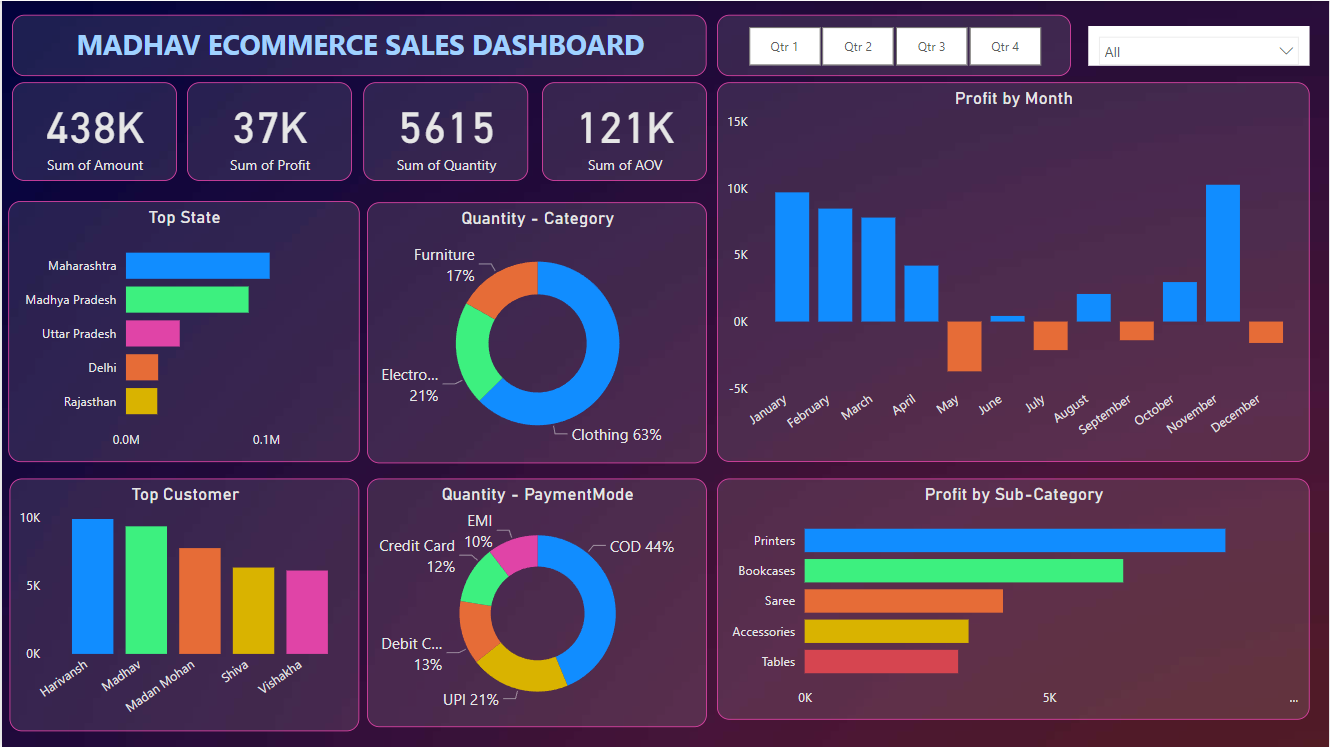

This screenshot's page, from the dashboard's own definition file:
{"tool":"powerbi","page":{"name":"Page 1","canvas":[1280,720],"ordinal":0},"visuals":[{"type":"textbox","box":[9.7,13.3,670.8,59.1],"z":0},{"type":"columnChart","title":" Profit by Month","fields":{"Category":["Orders.Order Date.Variation.Date Hierarchy.Month"],"Y":["Details.Profit"]},"box":[690.1,78.4,571.9,366.8],"z":1000},{"type":"barChart","title":" Profit by Sub-Category","fields":{"Category":["Details.Sub-Category"],"Y":["Details.Profit"]},"box":[690.1,460.9,571.9,232.8],"z":2000},{"type":"donutChart","title":"Quantity - Category","fields":{"Category":["Details.Category"],"Y":["Details.Quantity"]},"box":[352.3,194.2,328.2,252.1],"z":3000},{"type":"donutChart","title":" Quantity - PaymentMode","fields":{"Y":["Details.Quantity"],"Category":["Details.PaymentMode"]},"box":[352.3,460.9,328.2,240.1],"z":4000},{"type":"card","fields":{"Values":["Details.Amount"]},"box":[9.7,78.4,159.3,95.3],"z":5000},{"type":"card","fields":{"Values":["Details.Quantity"]},"box":[348.7,78.4,159.3,95.3],"z":6000},{"type":"card","fields":{"Values":["Details.AOV"]},"box":[521.2,78.4,159.3,95.3],"z":7000},{"type":"card","fields":{"Values":["Details.Profit"]},"box":[178.6,78.4,159.3,95.3],"z":8000},{"type":"barChart","title":"Top State","fields":{"Category":["Orders.State"],"Y":["Details.Amount"]},"box":[6,193,339,252.1],"z":9000},{"type":"columnChart","title":"Top Customer","fields":{"Category":["Orders.CustomerName"],"Y":["Details.Amount"]},"box":[7.2,460.9,337.8,243.7],"z":10000},{"type":"slicer","fields":{"Values":["Orders.Order Date.Variation.Date Hierarchy.Quarter"]},"box":[690.1,13.3,341.4,59.1],"z":11000},{"type":"slicer","fields":{"Values":["Orders.State"]},"box":[1048.4,24.1,213.5,38.6],"z":12000}]}

Visuals, with their boxes in screenshot pixels (x1, y1, x2, y2), scaled from the page's 1280x720 canvas onto the 1330x747 screenshot:
textbox: select_region(10, 14, 707, 75)
" Profit by Month" columnChart: select_region(717, 81, 1311, 462)
" Profit by Sub-Category" barChart: select_region(717, 478, 1311, 720)
"Quantity - Category" donutChart: select_region(366, 201, 707, 463)
" Quantity - PaymentMode" donutChart: select_region(366, 478, 707, 727)
card - Details.Amount: select_region(10, 81, 176, 180)
card - Details.Quantity: select_region(362, 81, 528, 180)
card - Details.AOV: select_region(542, 81, 707, 180)
card - Details.Profit: select_region(186, 81, 351, 180)
"Top State" barChart: select_region(6, 200, 358, 462)
"Top Customer" columnChart: select_region(7, 478, 358, 731)
slicer - Orders.Order Date.Variation.Date Hierarchy.Quarter: select_region(717, 14, 1072, 75)
slicer - Orders.State: select_region(1089, 25, 1311, 65)
